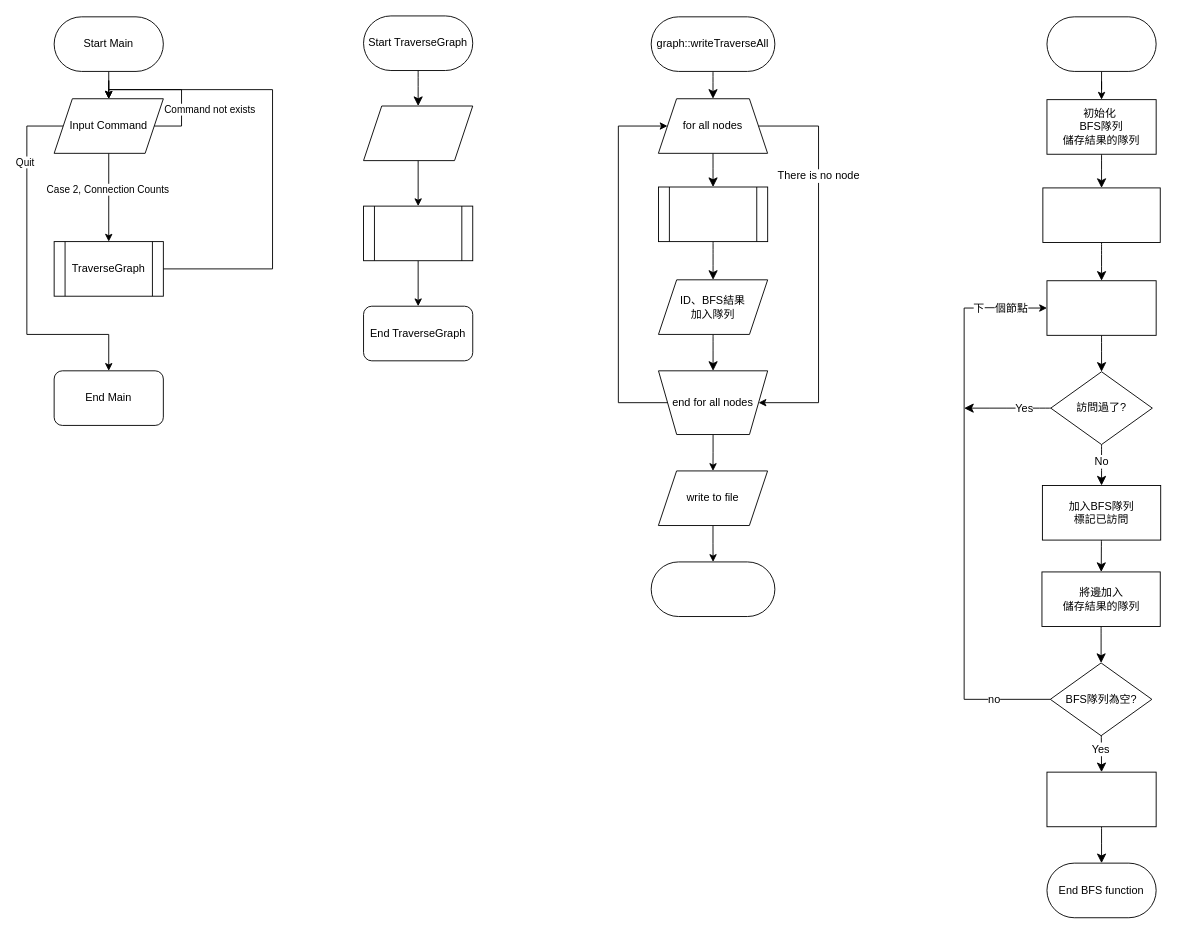
Some shapes in this 1177 by 934 pixel diagram are drawn without their labels. The shapes that lost their labels are listed below. From the top down, each one's centre as x and y in pixels, then its label:
At point (1101, 43): "BFS function".
At point (418, 133): "Print ID size".
At point (418, 233): "writeTraverseAll".
At point (713, 214): "以BFS獲取 節點可達的相異getID".
At point (1101, 215): "起始節點標成visited 加入 BFS隊列".
At point (1101, 307): "檢查佇列頭的節點".
At point (712, 589): "End graph::writeTraverseAll".
At point (1101, 799): "回傳儲存結果的隊列".
